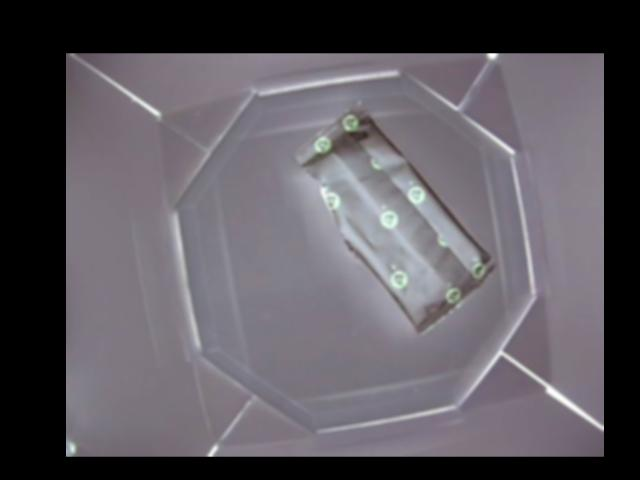Medicine: (296, 100, 496, 335)
